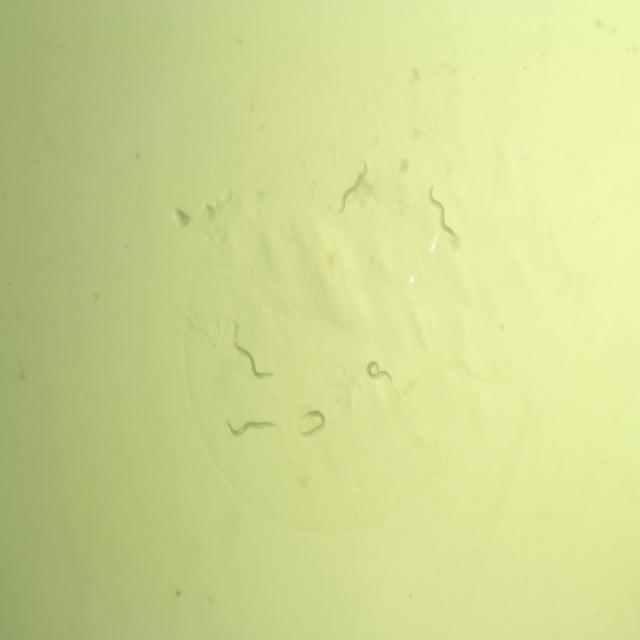worm: (231, 338, 277, 384), (336, 159, 369, 216), (426, 182, 458, 238), (222, 416, 280, 439), (297, 408, 332, 438), (364, 358, 395, 384)
